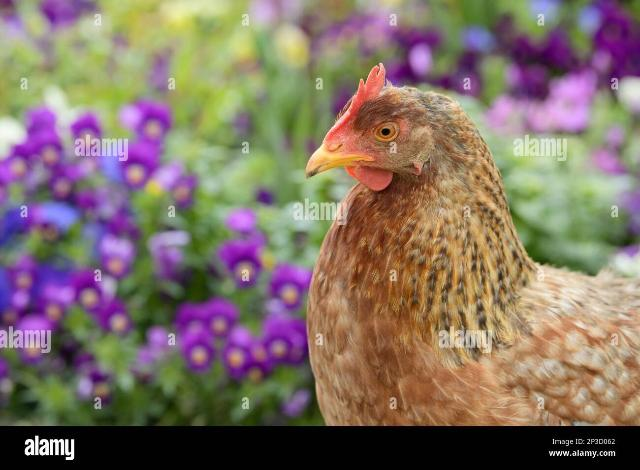Chicken: (304, 63, 640, 425)
